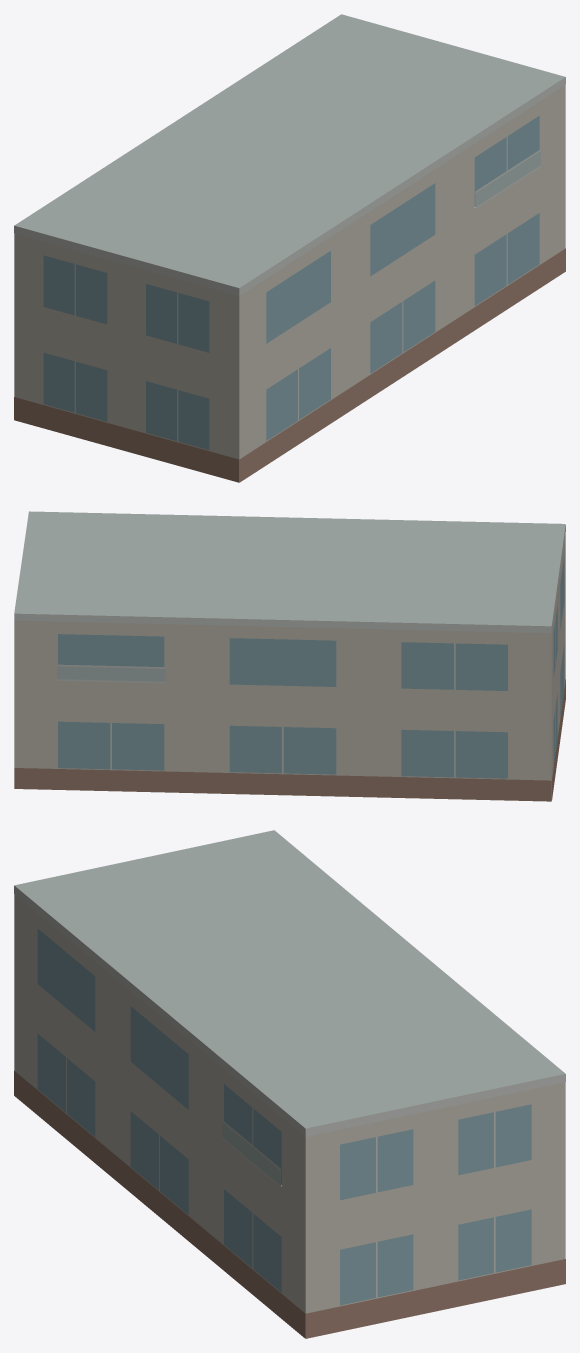
Rendered from survey-upis-32700770.glb.
The picture shows the model from 3 angles, top to bottom: view 1: azimuth 30°, elevation 25°; view 2: azimuth 150°, elevation 25°; view 3: azimuth 270°, elevation 25°; orthographic projection. The views are drawn at different scales.
Parts seen in each view (by area): view 1: survey-upis-32700770.tmp; view 2: survey-upis-32700770.tmp; view 3: survey-upis-32700770.tmp.
Boxes of the visible parts, x1,y1,x2,y2 form: survey-upis-32700770.tmp: (14,14,565,482); survey-upis-32700770.tmp: (14,511,565,801); survey-upis-32700770.tmp: (14,830,565,1338).
Size of the model in its own units: 18.59 by 6.1 by 14.52.
